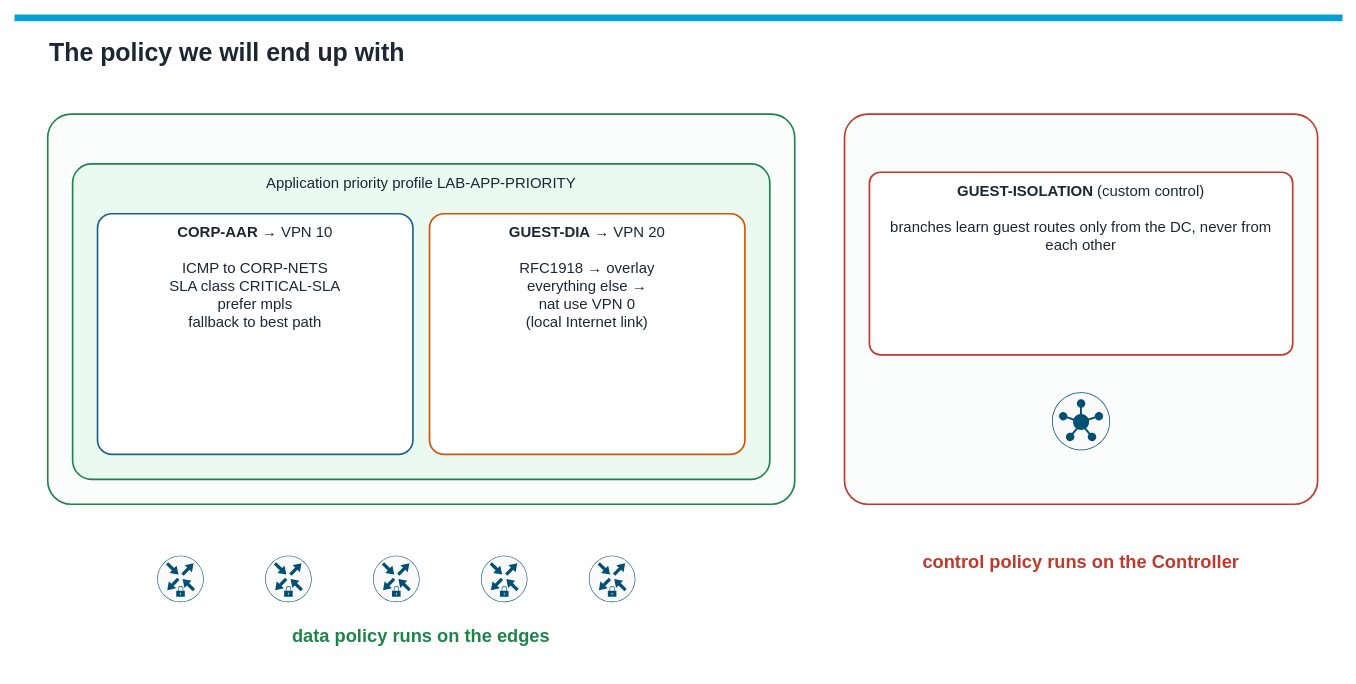
This 1356x684 diagram has some shape labels left out. Here are the shapes that lost their labels. From the top down, the box of each, then its label:
(46, 113, 795, 505): Policy group LAB-PG
(843, 113, 1318, 505): Topology group LAB-TOPOLOGY-GROUP
